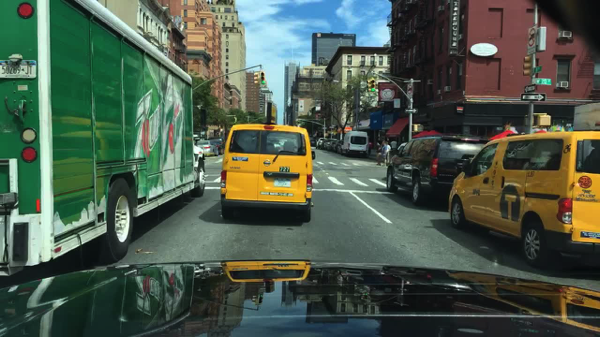bus: (0, 0, 207, 277)
car: (446, 125, 599, 272), (220, 119, 316, 223), (386, 133, 493, 205), (339, 130, 370, 157), (194, 140, 220, 156), (211, 137, 226, 153), (323, 138, 340, 150), (316, 138, 324, 149)
person: (381, 141, 391, 165), (390, 138, 399, 156), (374, 141, 381, 164)
traffic light: (535, 114, 550, 126), (523, 57, 531, 77), (411, 124, 422, 133), (369, 78, 375, 94), (258, 71, 264, 86), (366, 79, 371, 92), (253, 74, 258, 83)
traffic sign: (526, 28, 536, 53), (534, 79, 551, 85), (406, 84, 414, 96), (521, 96, 545, 100), (522, 85, 535, 92), (532, 66, 541, 73), (404, 108, 418, 112)
truck: (572, 101, 599, 130)
